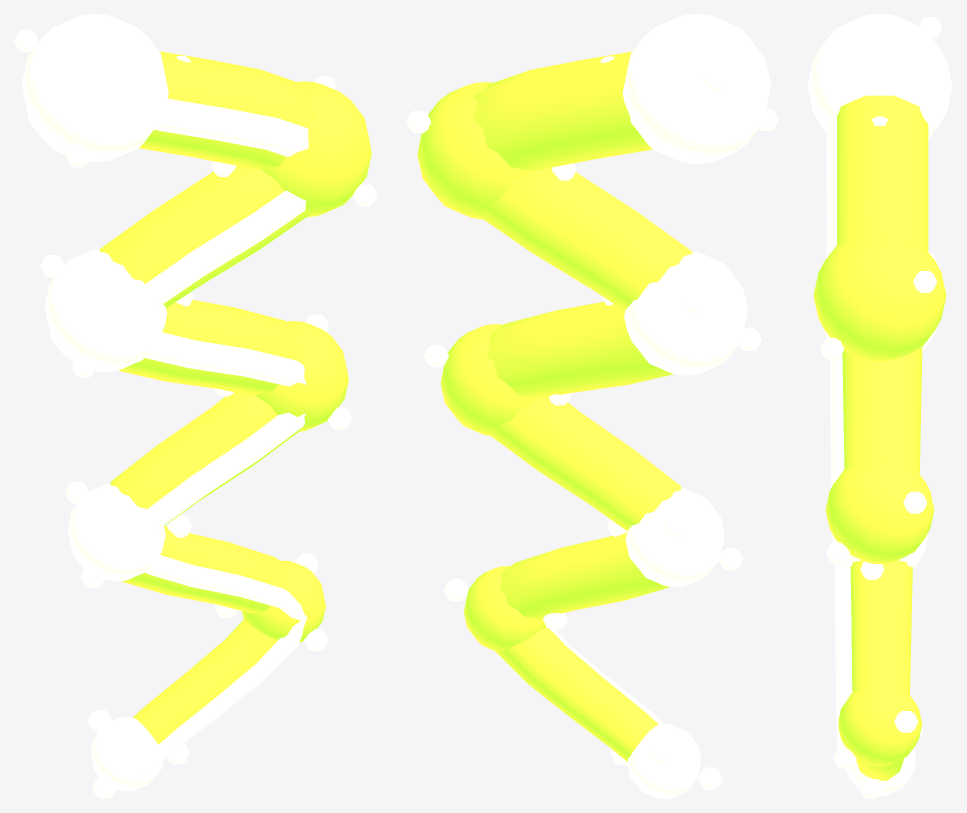
File: bomb_squiggly.glb
3 views of the same model, side by side, from view 1: azimuth 30°, elevation 25°; view 2: azimuth 150°, elevation 25°; view 3: azimuth 270°, elevation 25° (orthographic). The views are drawn at different scales.
Visible parts, largest first — view 1: bomb_squiggly; view 2: bomb_squiggly; view 3: bomb_squiggly.
Part boxes in pixels (bbox=[...]): bomb_squiggly: bbox=[14, 14, 377, 798]; bomb_squiggly: bbox=[406, 14, 778, 798]; bomb_squiggly: bbox=[807, 14, 952, 798].
Size of the model in its own units: 0.1536 by 0.345 by 0.06.
